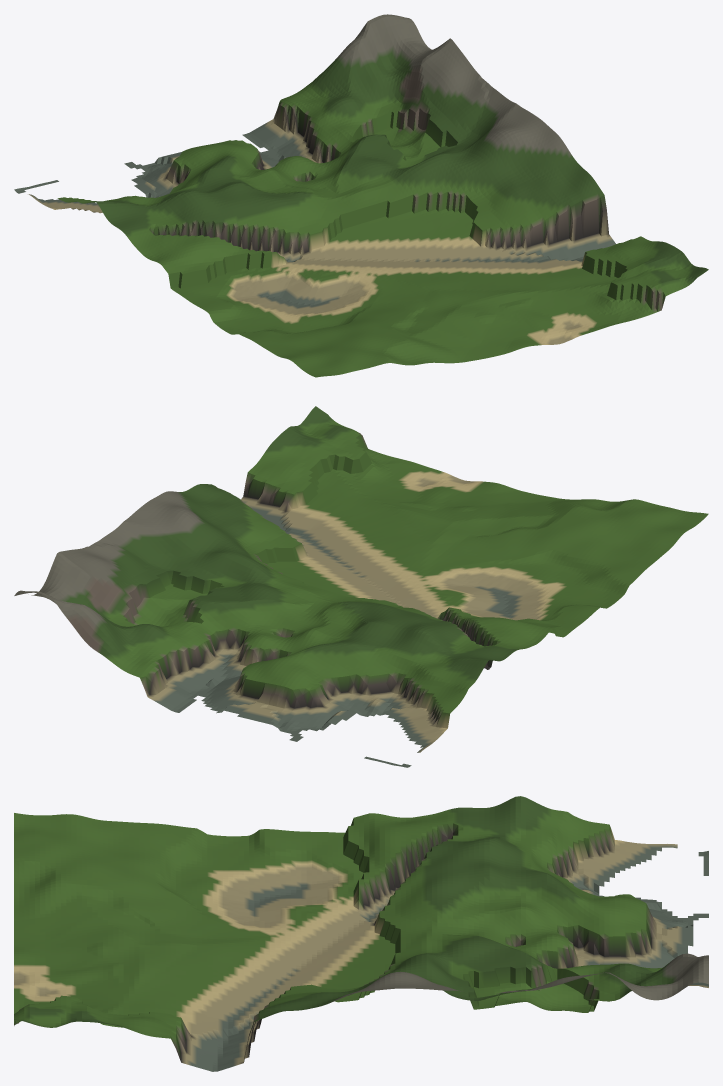
The model's file is coast_tile_x0z0.glb.
3 renders of one model, top to bottom at view 1: azimuth 30°, elevation 25°; view 2: azimuth 150°, elevation 25°; view 3: azimuth 270°, elevation 25°, orthographic. The views are drawn at different scales.
Visible parts, largest first — view 1: geometry_0; view 2: geometry_0; view 3: geometry_0.
Boxes of the visible parts, x1,y1,x2,y2 form: geometry_0: (14, 14, 708, 377); geometry_0: (14, 406, 708, 767); geometry_0: (14, 796, 708, 1071).
Size of the model in its own units: 600 by 128 by 798.
